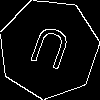U: (24, 24, 74, 80)
